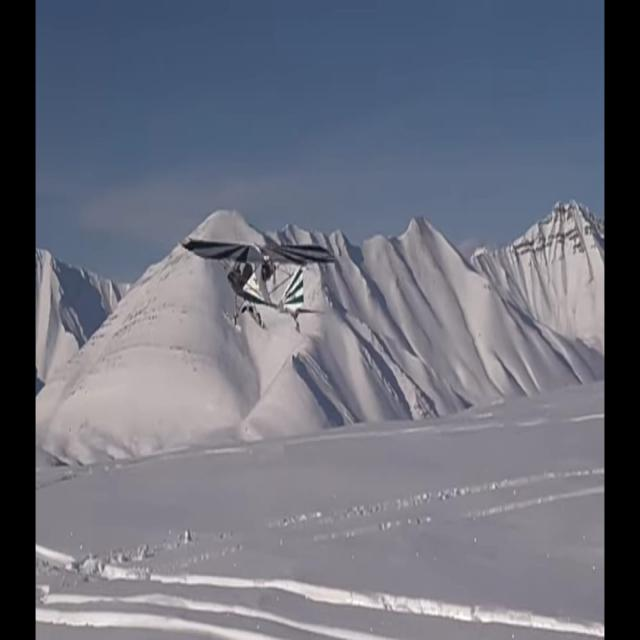iha: (178, 269, 337, 305)
